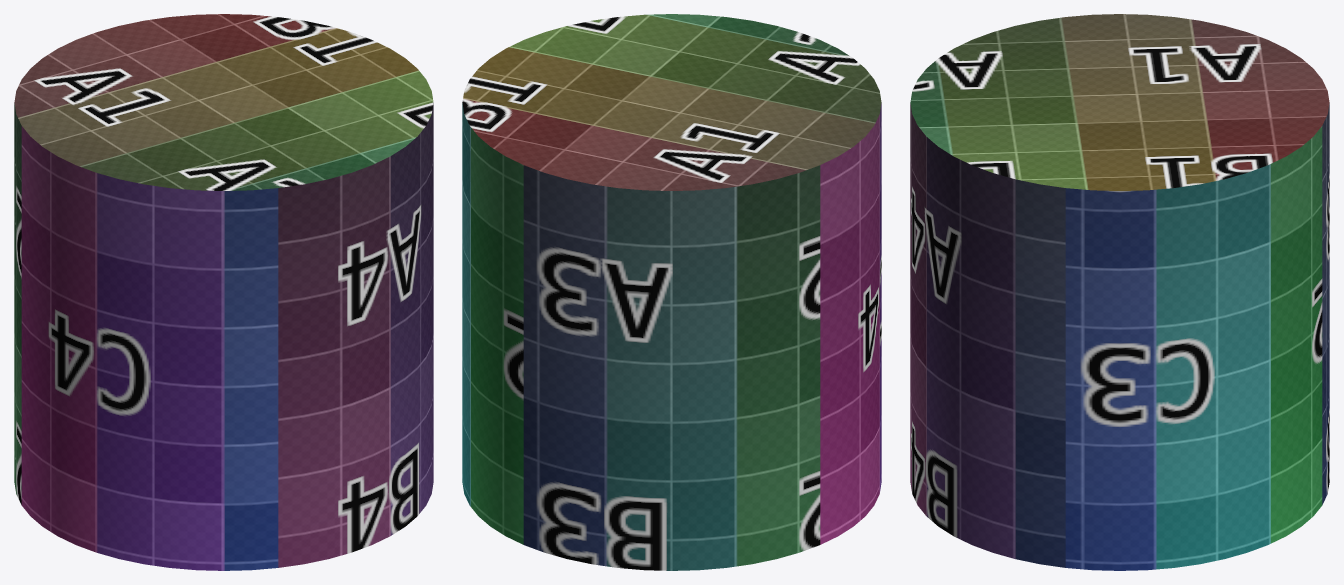
File: Prim_Cylinder.glb
3 renders of one model, left to right at view 1: azimuth 30°, elevation 25°; view 2: azimuth 150°, elevation 25°; view 3: azimuth 270°, elevation 25°, orthographic.
Parts seen in each view (by area): view 1: Prim_Cylinder; view 2: Prim_Cylinder; view 3: Prim_Cylinder.
Boxes of the visible parts, x1,y1,x2,y2 form: Prim_Cylinder: (14, 14, 433, 570); Prim_Cylinder: (462, 14, 881, 570); Prim_Cylinder: (910, 14, 1329, 570).
Size of the model in its own units: 1 by 1 by 1.
Materials: 1 (1 with a texture image).
